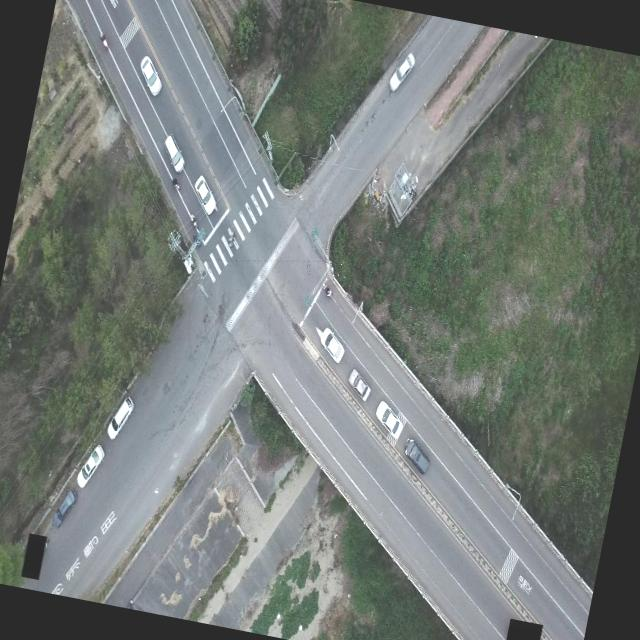car: (370, 398, 407, 444), (104, 394, 136, 442), (76, 442, 106, 491), (135, 54, 168, 98), (190, 174, 222, 218), (401, 436, 434, 476), (316, 326, 349, 365), (388, 51, 416, 94), (159, 133, 189, 173), (53, 486, 79, 530), (345, 367, 374, 402)
